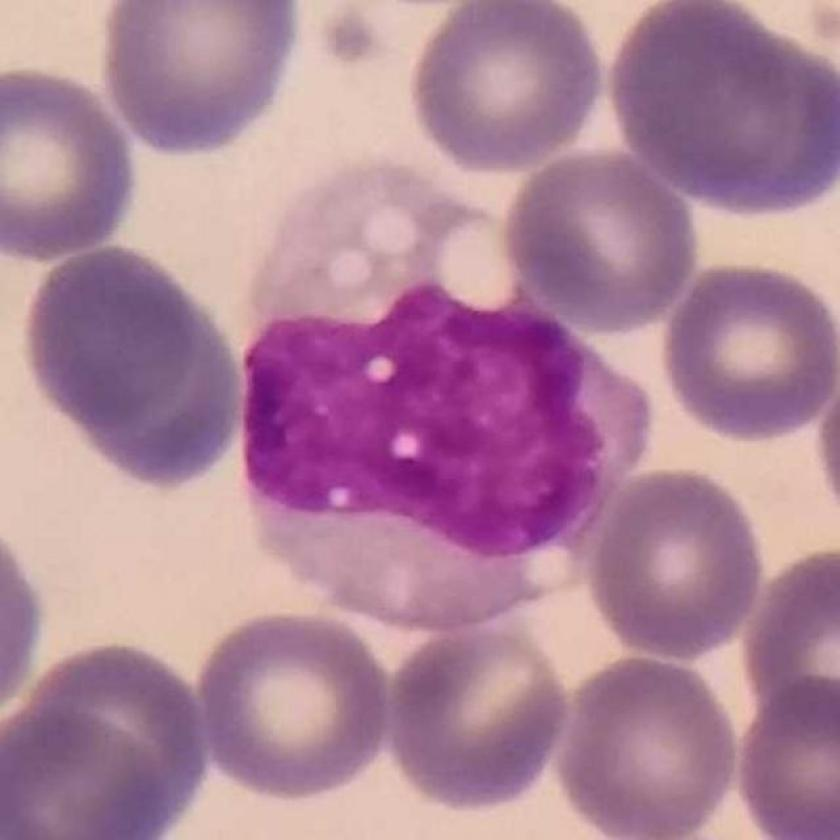monocyte: (235, 137, 661, 631)
